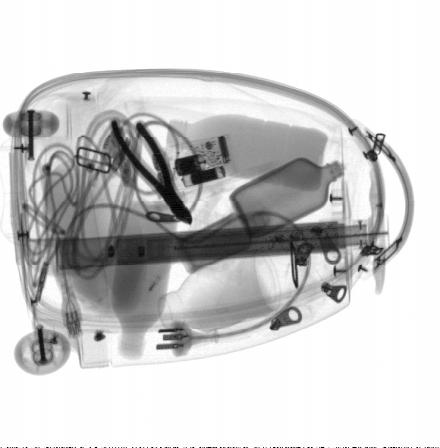Pliers: (111, 118, 194, 226)
